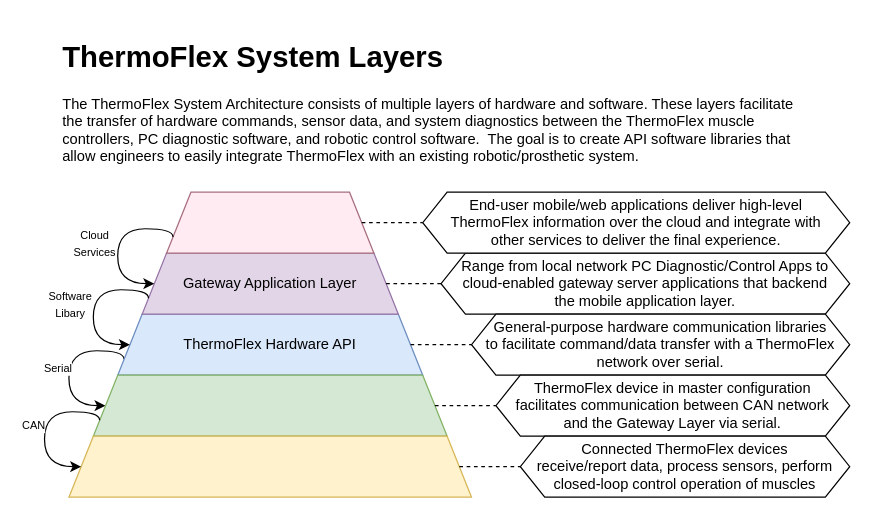
This 871x519 diagram has some shape labels left out. The shapes that lost their labels are listed below. From the top down, each one's box as (x1, y1, x2, y2) in pixels, then its label:
(165, 191, 374, 253): Mobile Application Layer
(92, 374, 447, 436): ThermoFlex Firmware Master
(68, 435, 472, 497): ThermoFlex CAN Network
